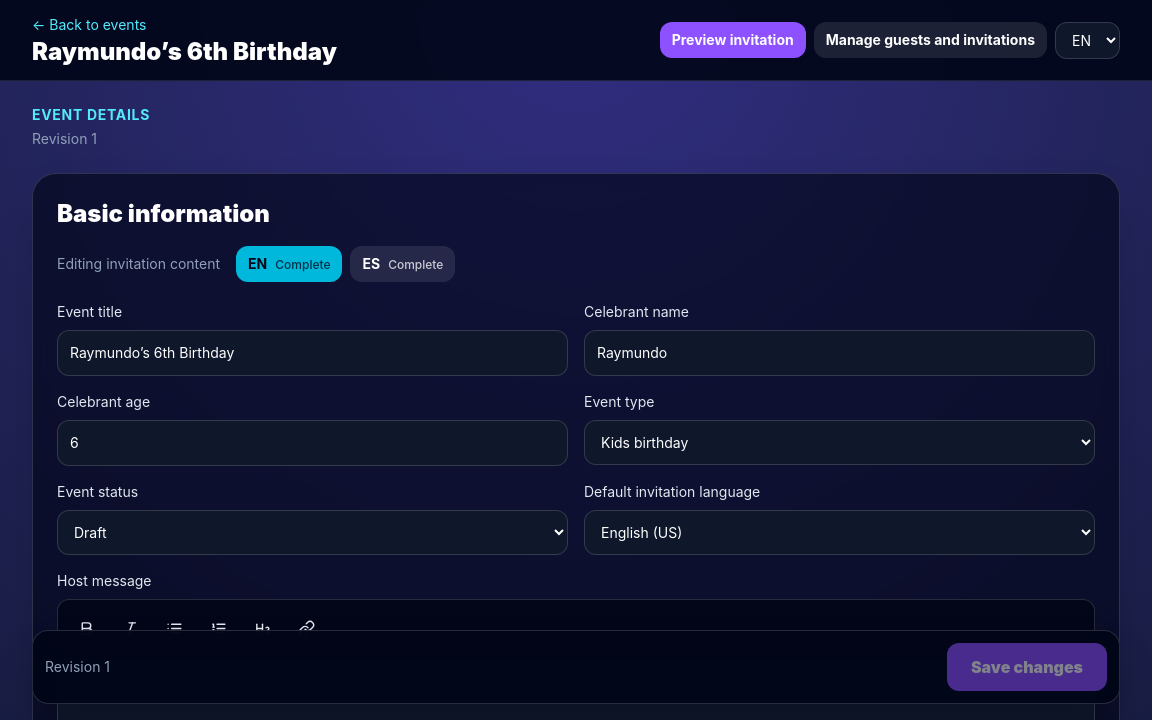
Test: host event editor › renders the mobile-first editor sections and tracks unsaved changes
Expected: the heading "Basic information" is shown, [57, 199, 270, 228]
In the field labelled "Event title": (312, 353) [57, 330, 568, 376], type "!"
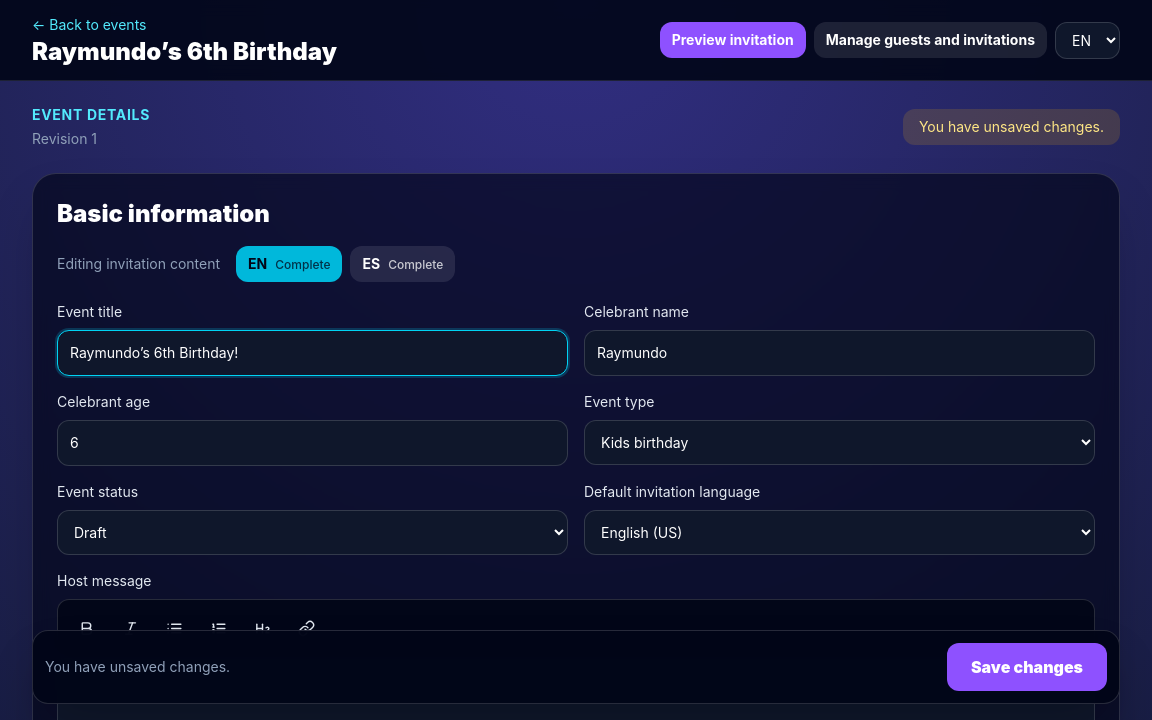
Result: the text "You have unsaved changes." is shown at [903, 109, 1120, 145]
Result: the button "Save changes" is enabled at [947, 643, 1107, 691]
